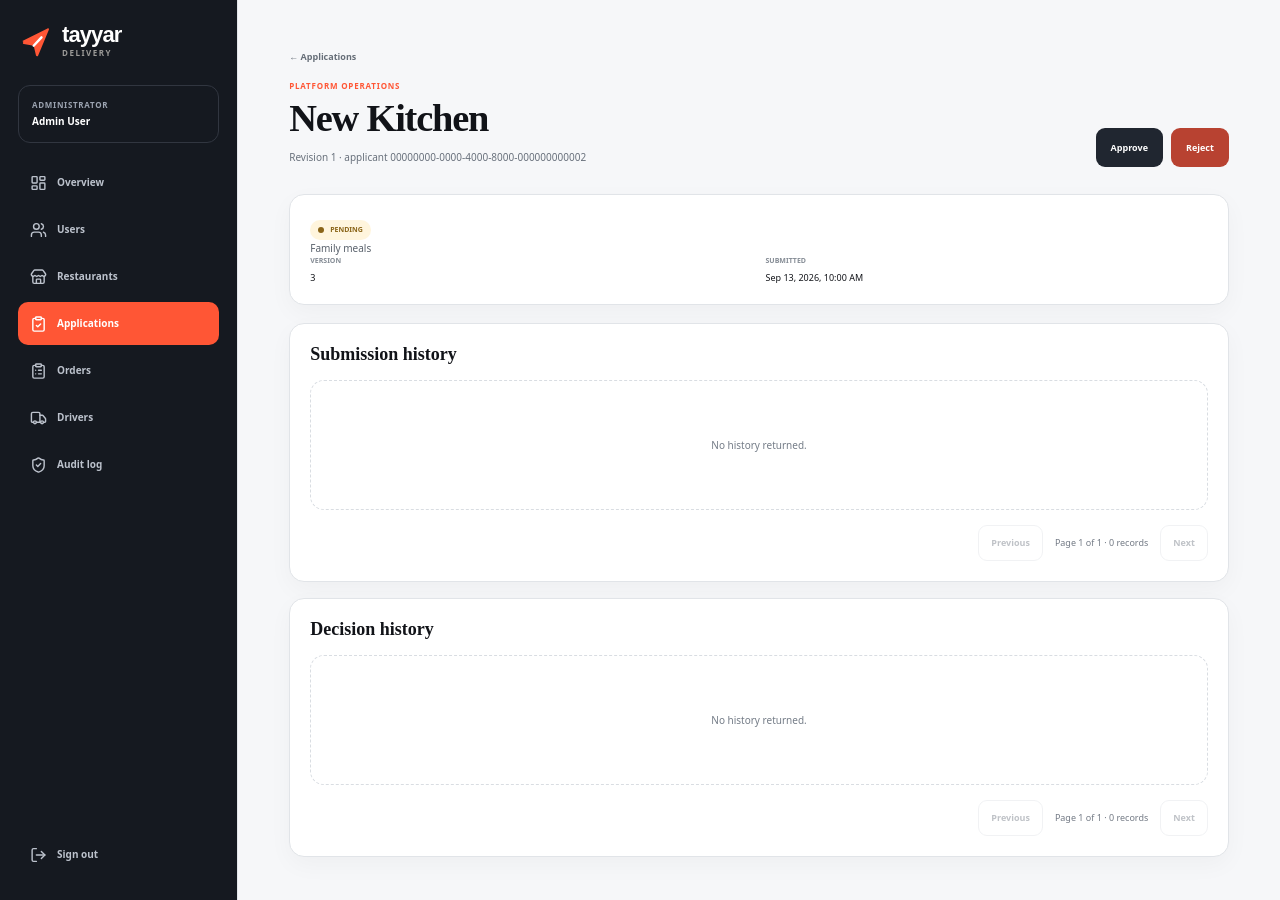
Test: records a versioned application approval after server confirmation
Click the button "Approve" at [1129, 147], box top-left (1096, 128), bottom-right (1163, 167)
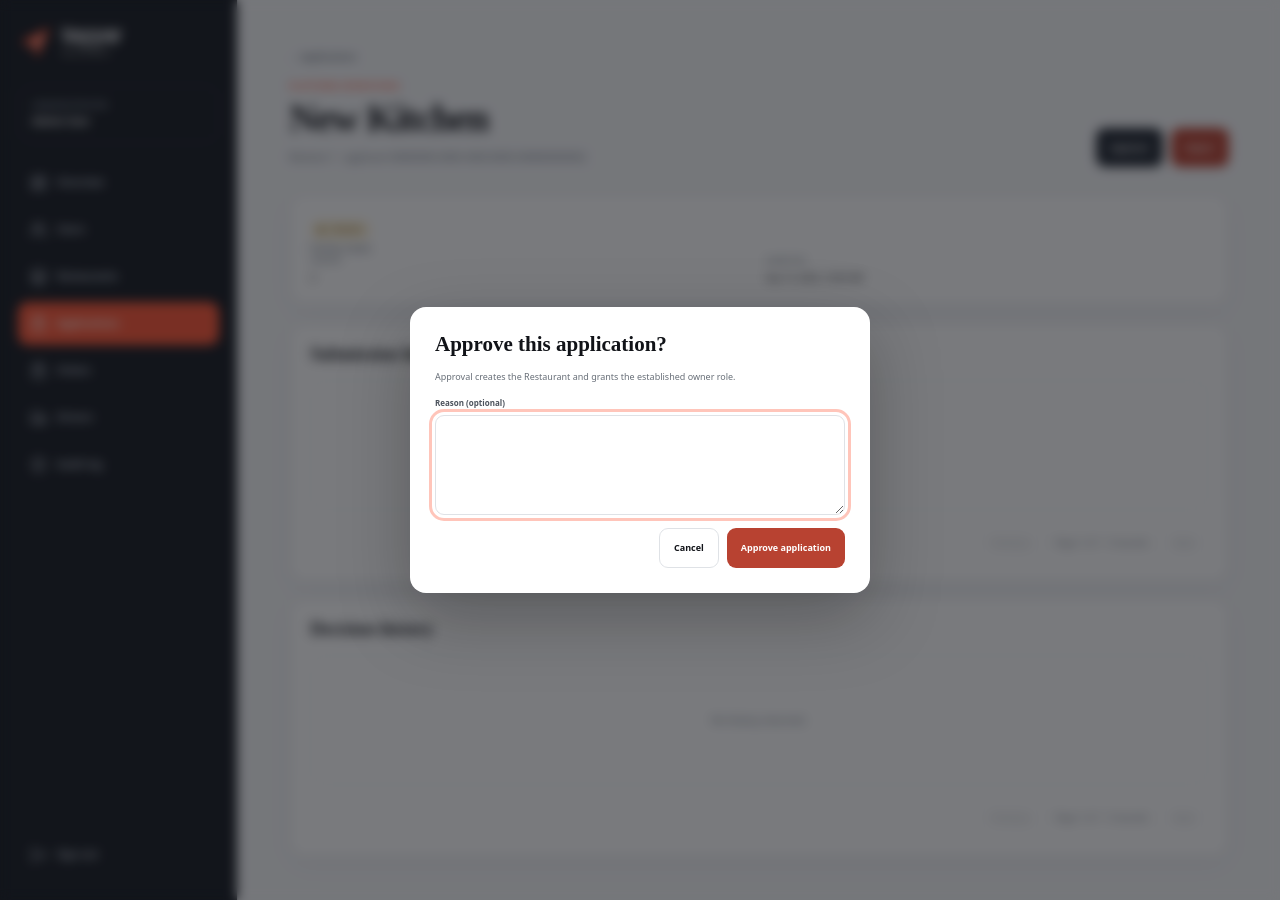
Click the button "Approve application" at [786, 548], box top-left (727, 528), bottom-right (845, 568)
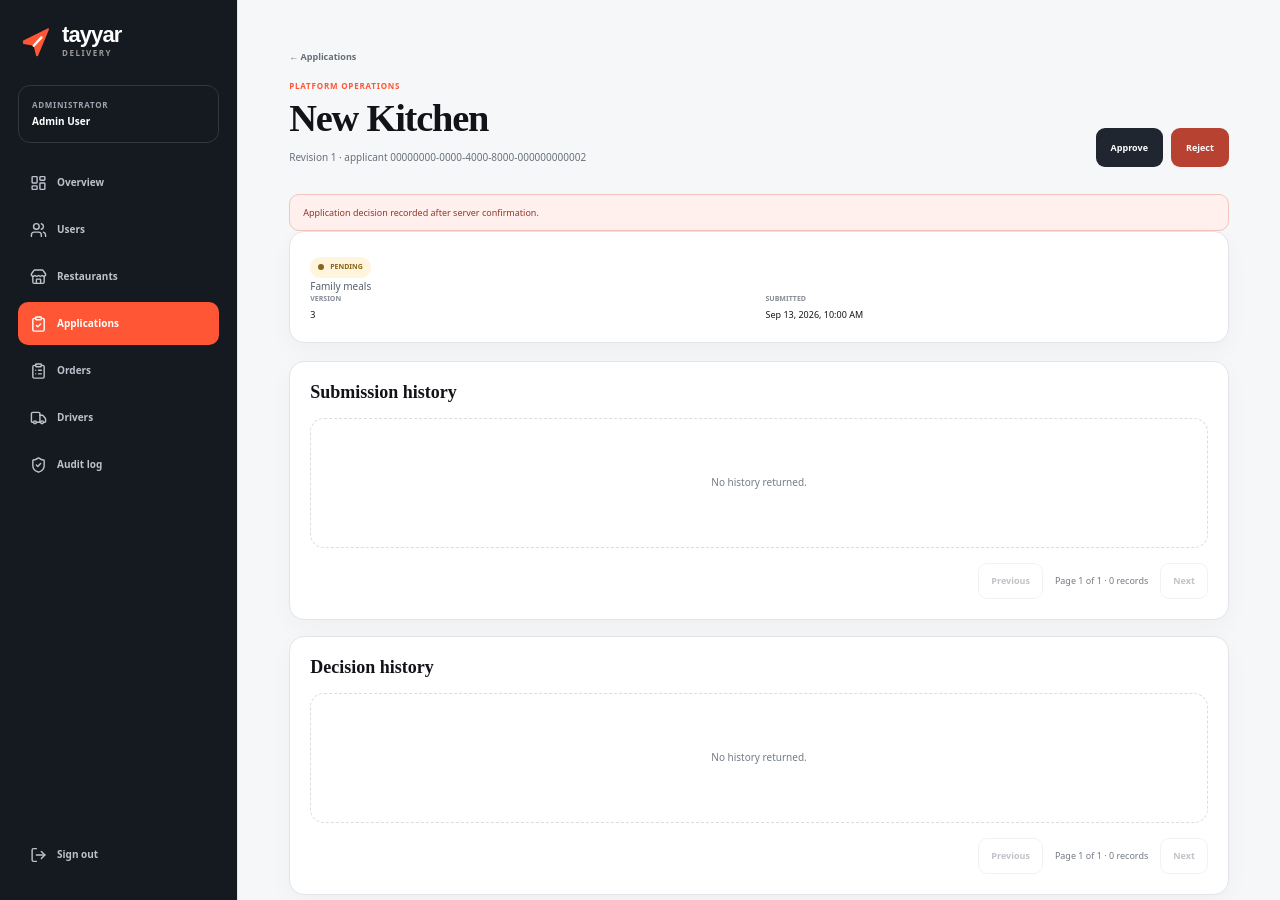
Expected: the text "Application decision recorded after server confirmation." is shown, top-left (289, 194), bottom-right (1229, 231)
